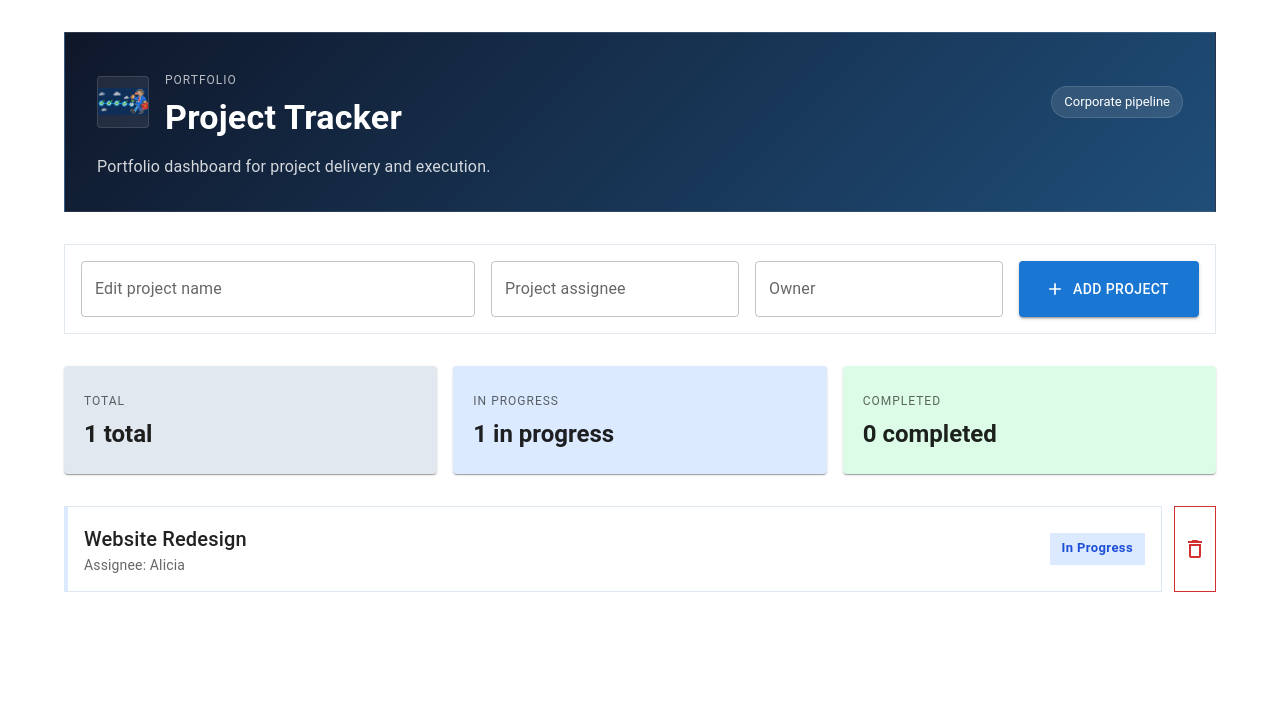
Test: adds a task with an assignee to the selected project
Click the button with aria-label "select website redesign" at x=165, y=539, box [64,506,1162,592]
(page scrolled)
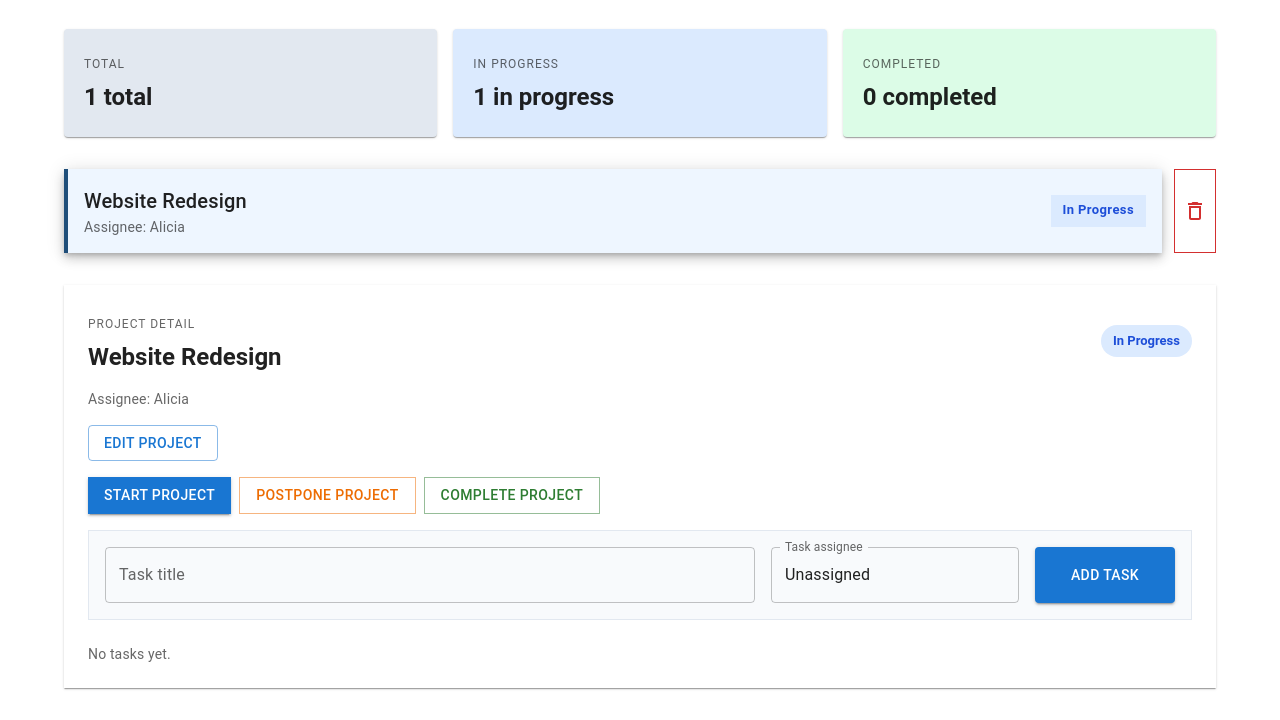
Type "Customer onboarding" into the field labelled "Task title" at x=430, y=575, box [105,547,755,603]
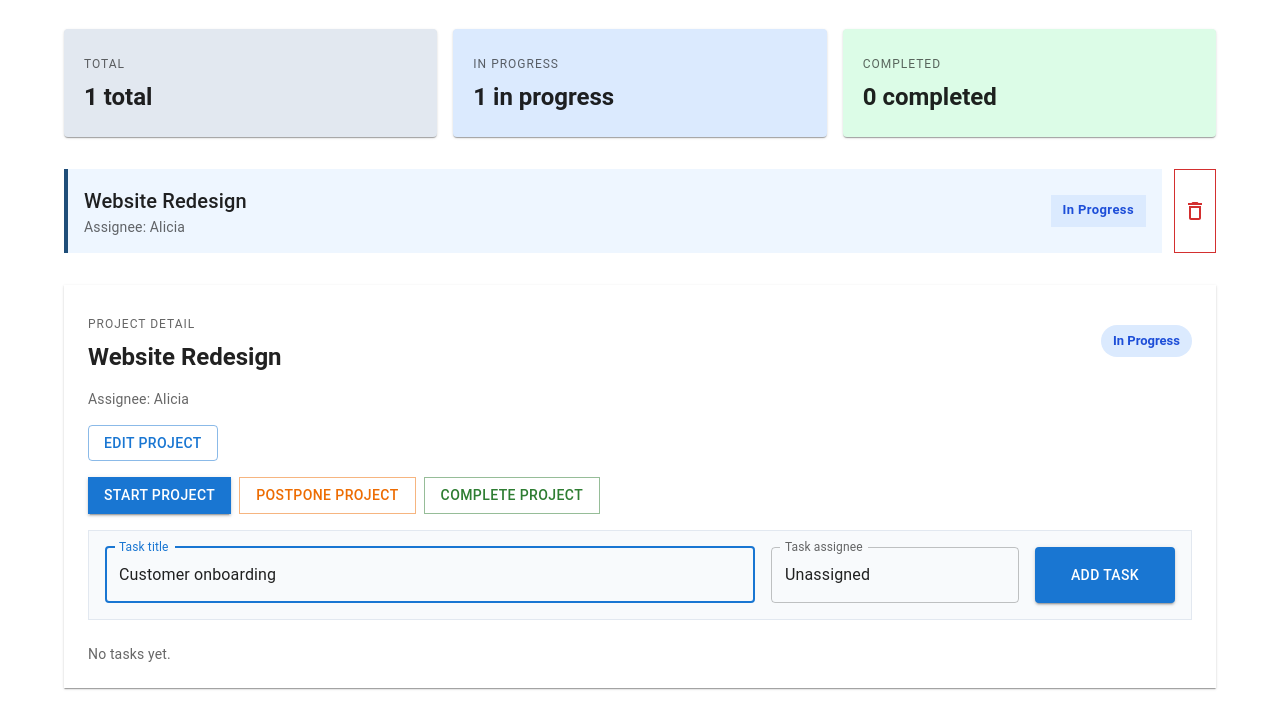
Type "Morgan" into the field labelled "Task assignee" at x=895, y=575, box [771,547,1019,603]
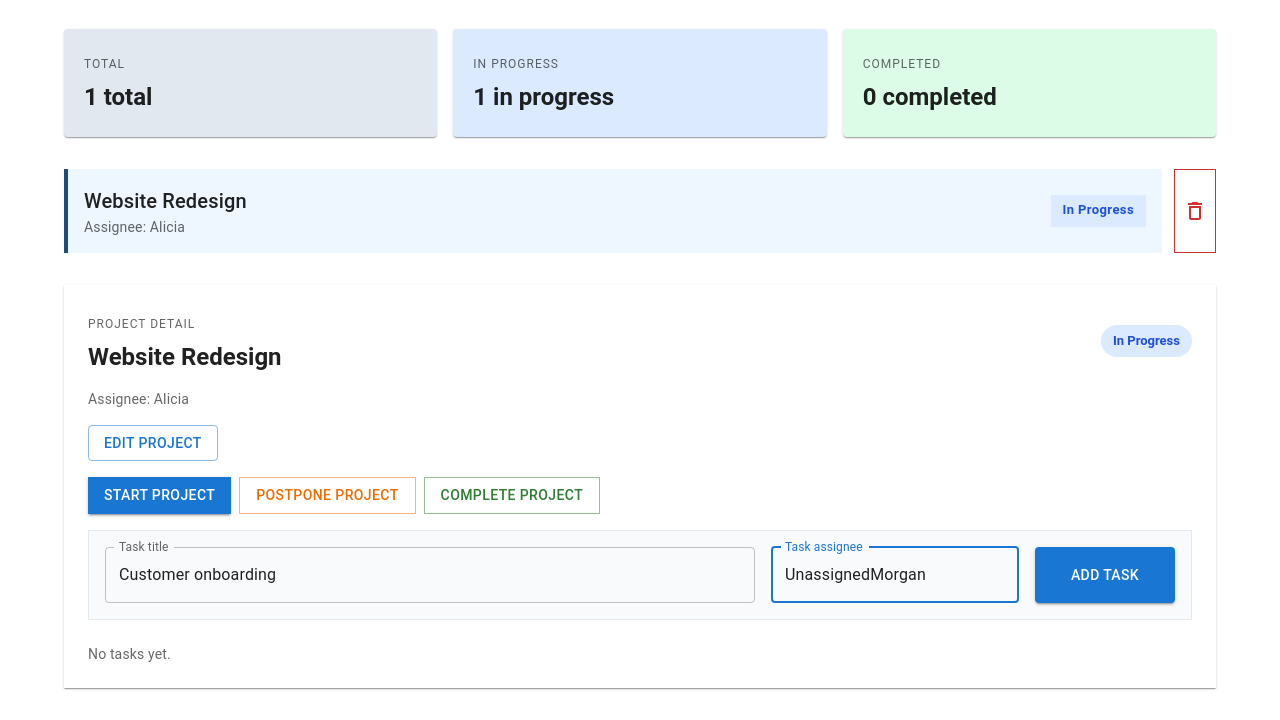
Click the button "Add task" at x=1105, y=575, box [1035,547,1175,603]
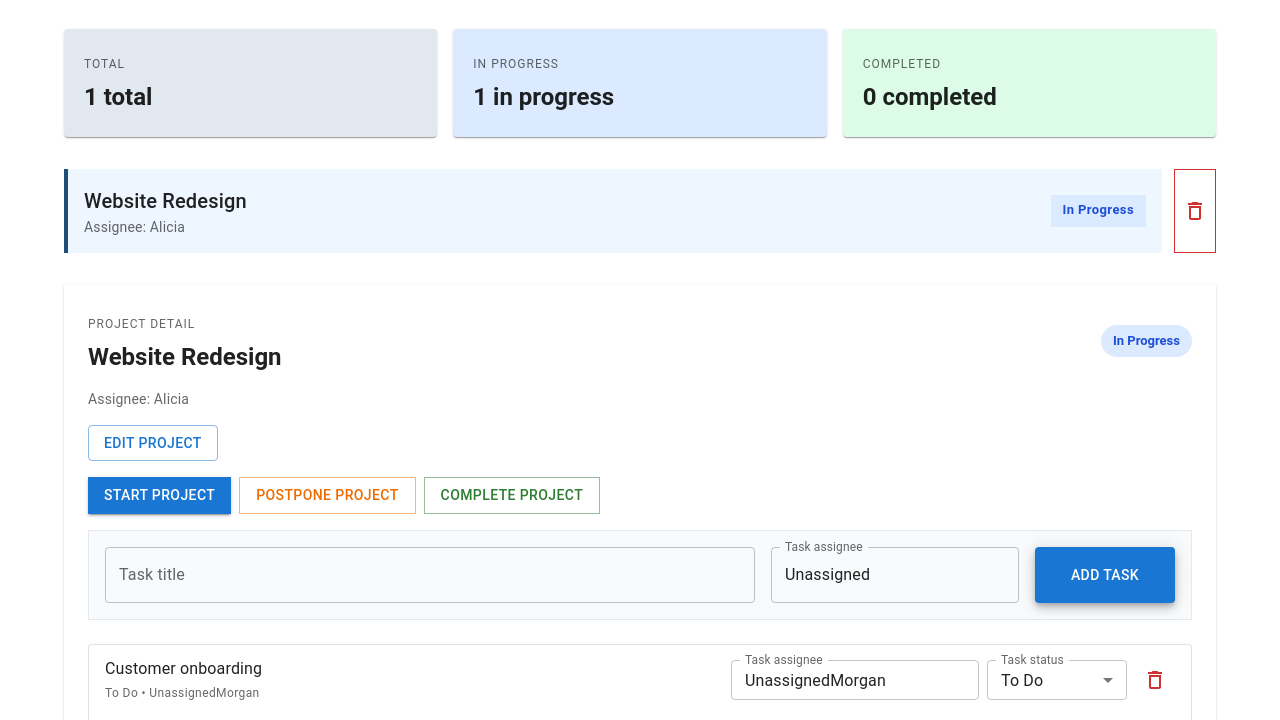
Expected: the text "Customer onboarding" is shown, [105,657,262,681]
